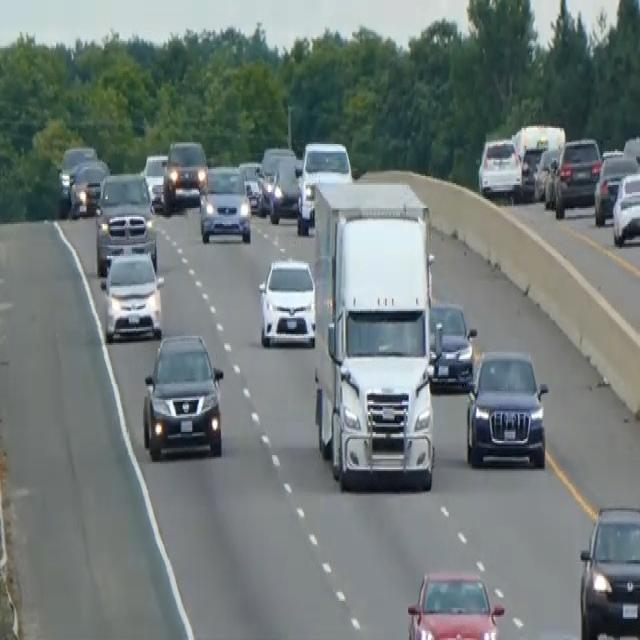car: (141, 330, 224, 460), (465, 347, 548, 469), (578, 503, 639, 638), (406, 567, 505, 638), (94, 170, 157, 276), (101, 249, 163, 341), (257, 256, 316, 348), (297, 140, 352, 233), (427, 301, 476, 391), (198, 164, 251, 244), (512, 123, 564, 197), (554, 135, 601, 213), (593, 151, 638, 226), (162, 137, 208, 208), (477, 135, 522, 201), (57, 142, 97, 214), (257, 144, 295, 212), (68, 158, 109, 217), (268, 155, 302, 224), (612, 171, 639, 245), (533, 146, 560, 201), (142, 151, 168, 208), (238, 158, 263, 214), (622, 133, 639, 169)
lorry: (310, 178, 437, 490)
